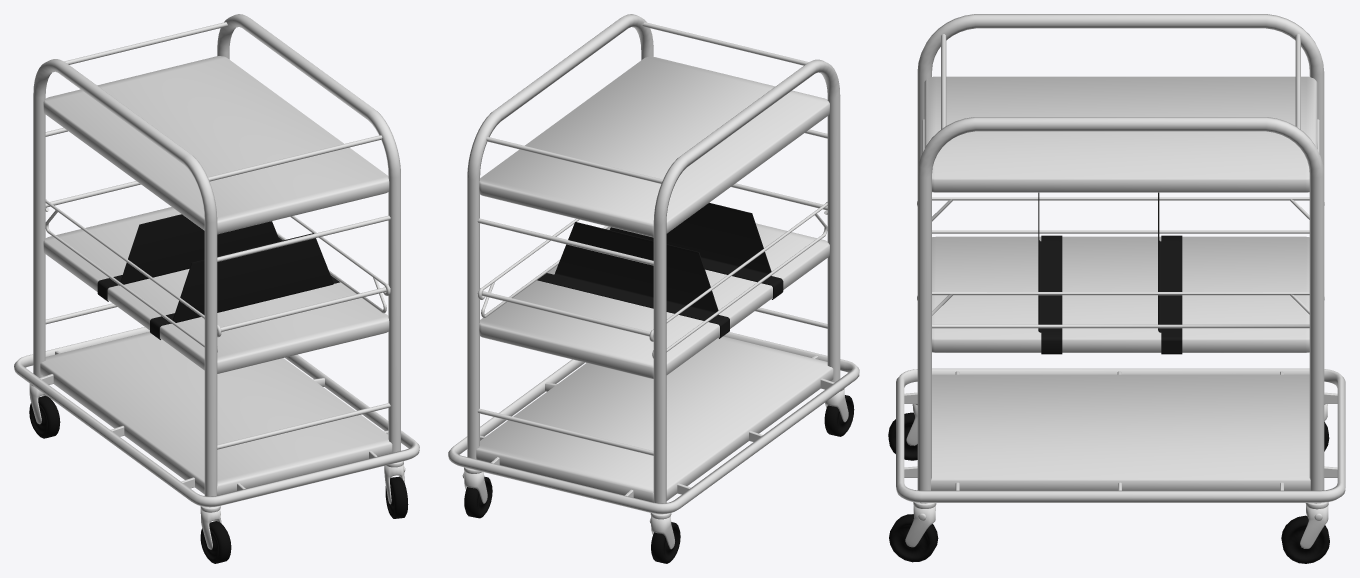
Rendered from TrayType1.fbx.
The picture shows the model from 3 angles, left to right: view 1: azimuth 30°, elevation 25°; view 2: azimuth 150°, elevation 25°; view 3: azimuth 270°, elevation 25°; orthographic projection. The views are drawn at different scales.
Visible parts, largest first — view 1: TrayType_Mesh1; view 2: TrayType_Mesh1; view 3: TrayType_Mesh1.
Part boxes in pixels (bbox=[...]): TrayType_Mesh1: bbox=[14, 14, 419, 563]; TrayType_Mesh1: bbox=[448, 14, 859, 563]; TrayType_Mesh1: bbox=[888, 14, 1345, 563].
Bounding box in the file's own units: 0.9271 × 1.51 × 1.42.
